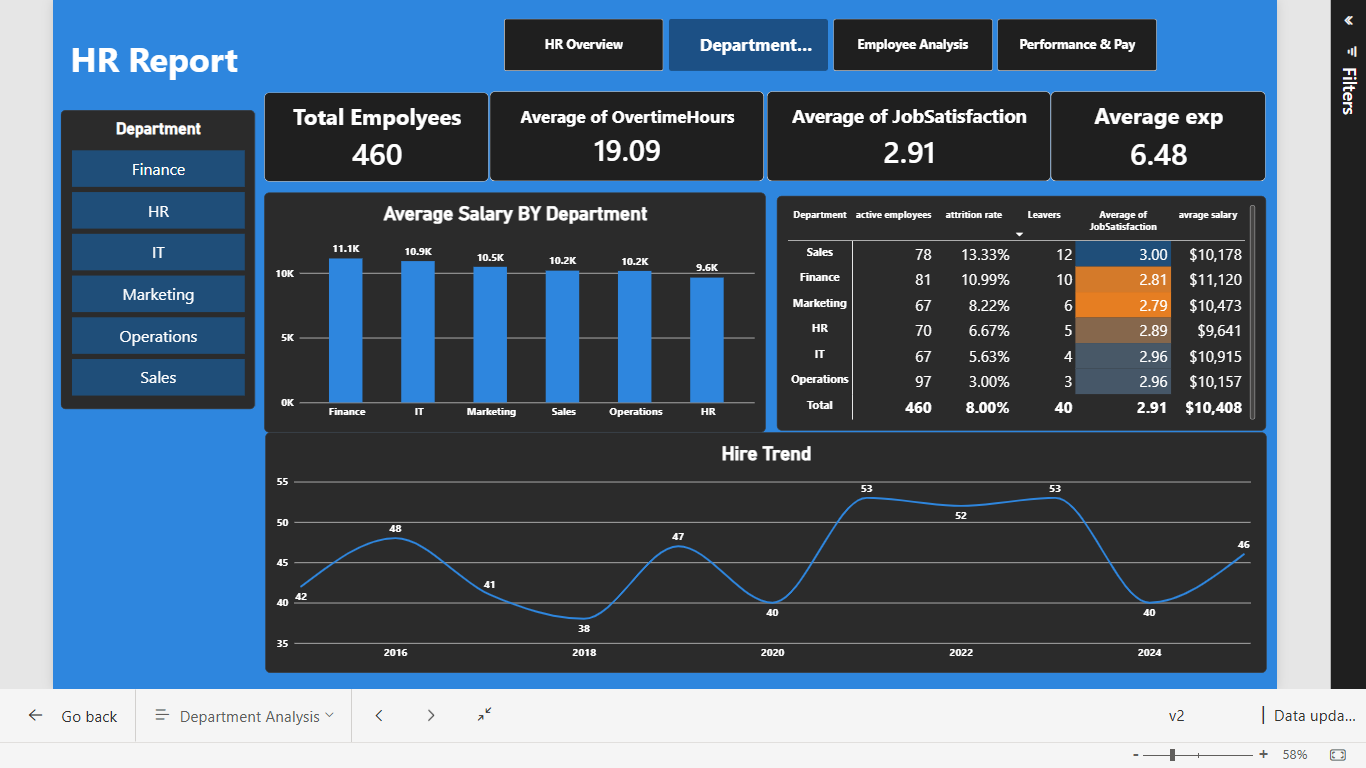

This screenshot's page, from the dashboard's own definition file:
{"tool":"powerbi","page":{"name":"Department Analysis","canvas":[1920,1080],"ordinal":1},"visuals":[{"type":"enlightenSlicerB18DC0CE4A1F4BA79CE49FBE40F3965F","fields":{"category":["HR.Department"]},"box":[12.8,172.2,304.9,468.7],"z":0},{"type":"textbox","box":[27.7,55.4,277.2,83.1],"z":1000},{"type":"columnChart","title":"Average Salary BY Department","fields":{"Category":["HR.Department"],"Y":["HR.avrage salary"]},"box":[331.7,301.9,786.6,376.3],"z":2000},{"type":"pageNavigator","box":[707.5,30,1025,82.5],"z":3000},{"type":"cardVisual","fields":{"Data":["HR.avrage exp"]},"box":[1564.7,143.6,337.6,141.1],"z":4000},{"type":"cardVisual","fields":{"Data":["Avg(HR.JobSatisfaction)"]},"box":[1118.7,143.6,446,141.1],"z":5000},{"type":"cardVisual","fields":{"Data":["Avg(HR.OvertimeHours)"]},"box":[685.4,143.6,430.9,141.1],"z":6000},{"type":"cardVisual","fields":{"Data":["HR.active employees"]},"box":[331.7,144.6,352.9,140.3],"z":7000},{"type":"pivotTable","fields":{"Rows":["HR.Department"],"Values":["HR.active employees","HR.attrition rate","HR.Leavers","Avg(HR.JobSatisfaction)","HR.avrage salary"]},"box":[1135.3,306.1,767.5,367.8],"z":8000},{"type":"lineChart","title":"Hire Trend ","fields":{"Category":["HR.HireDate.Variation.Date Hierarchy.Year","HR.HireDate.Variation.Date Hierarchy.Quarter","HR.HireDate.Variation.Date Hierarchy.Month","HR.HireDate.Variation.Date Hierarchy.Day"],"Y":["HR.all emp"]},"box":[332.5,677.5,1570,377.5],"z":9000}]}

Visuals, with their boxes on the page's 1920x1080 design canvas (x1, y1, x2, y2). These are canvas units, not pixel positions in the 1366x768 screenshot, which may show the page scaled, cropped or inside an application window:
enlightenSlicerB18DC0CE4A1F4BA79CE49FBE40F3965F - HR.Department: (left=13, top=172, right=318, bottom=641)
textbox: (left=28, top=55, right=305, bottom=138)
"Average Salary BY Department" columnChart: (left=332, top=302, right=1118, bottom=678)
pageNavigator: (left=708, top=30, right=1732, bottom=112)
cardVisual - HR.avrage exp: (left=1565, top=144, right=1902, bottom=285)
cardVisual - Avg(HR.JobSatisfaction): (left=1119, top=144, right=1565, bottom=285)
cardVisual - Avg(HR.OvertimeHours): (left=685, top=144, right=1116, bottom=285)
cardVisual - HR.active employees: (left=332, top=145, right=685, bottom=285)
pivotTable - HR.Department x HR.active employees: (left=1135, top=306, right=1903, bottom=674)
"Hire Trend " lineChart: (left=332, top=678, right=1902, bottom=1055)
